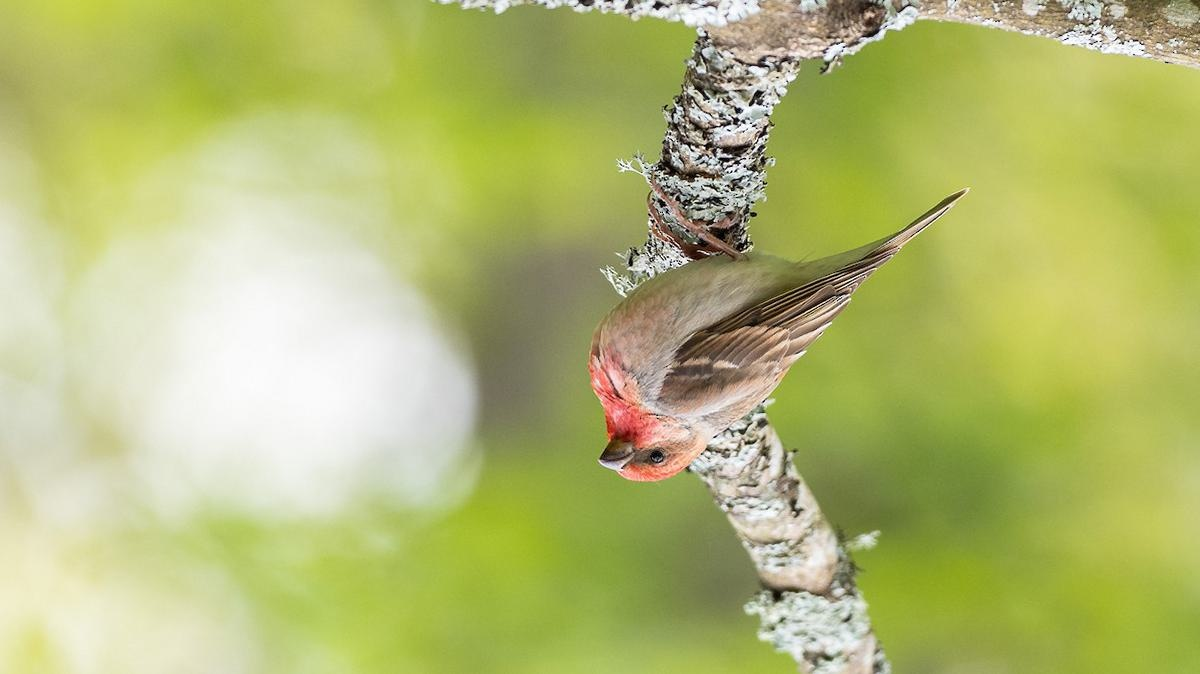rosefinch: (554, 204, 919, 511)
